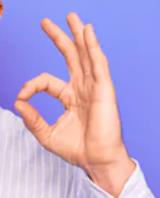left: (13, 10, 123, 166)
